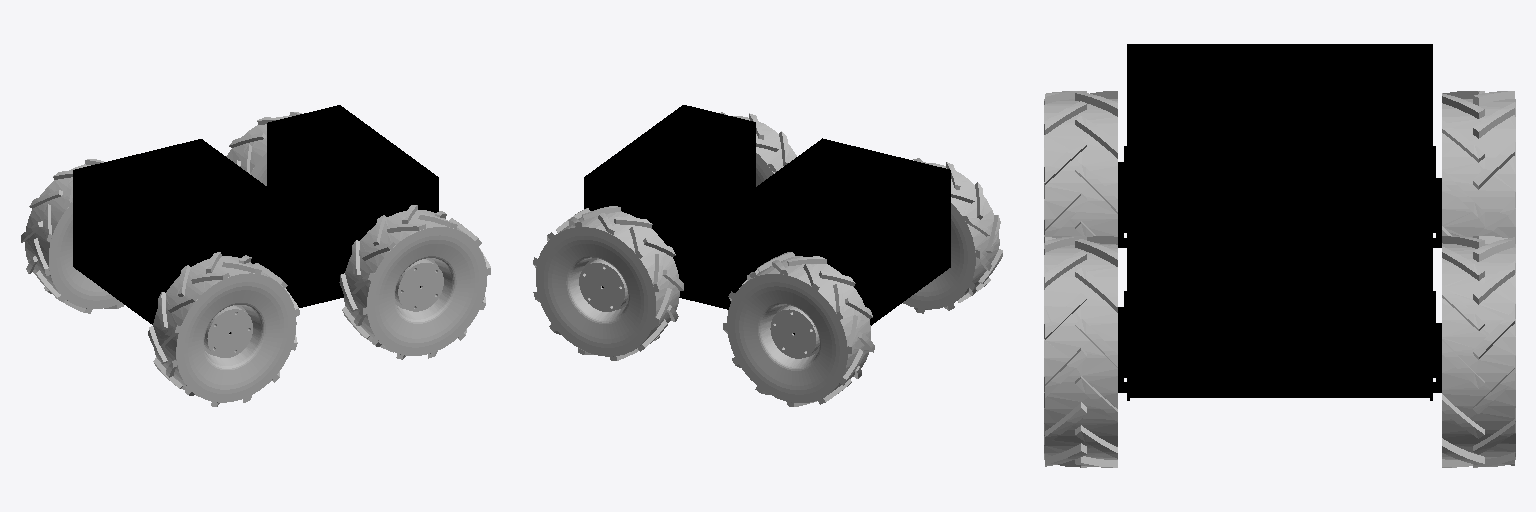
The robot description file, URDF, robot "ROVER_A1_URDF":
<?xml version="1.0" encoding="utf-8"?>
<!-- This URDF was automatically created by SolidWorks to URDF Exporter! Originally created by [author] ([email redacted]) 
     Commit Version: 1.6.0-4-g7f85cfe  Build Version: 1.6.7995.38578
     For more information, please see http://wiki.ros.org/sw_urdf_exporter -->
<robot
  name="ROVER_A1_URDF">
  <link
    name="base_link">
    <inertial>
      <origin
        xyz="-0.0331096533697888 7.09668643295025E-11 0.0694234106628136"
        rpy="0 0 0" />
      <mass
        value="34.5546054764677" />
      <inertia
        ixx="0.239631061537289"
        ixy="-0.000822634814054065"
        ixz="1.94613778104168E-05"
        iyy="0.23053157862469"
        iyz="-7.494352360915E-14"
        izz="0.370168476367055" />
    </inertial>
    <visual>
      <origin
        xyz="0 0 0"
        rpy="0 0 0" />
      <geometry>
        <mesh
          filename="package://ROVER_A1_URDF/meshes/base_link.STL" />
      </geometry>
      <material
        name="">
        <color
          rgba="0 0 0 1" />
      </material>
    </visual>
    <collision>
      <origin
        xyz="0 0 0"
        rpy="0 0 0" />
      <geometry>
        <mesh
          filename="package://ROVER_A1_URDF/meshes/base_link.STL" />
      </geometry>
    </collision>
  </link>
  <link
    name="link_back_left">
    <inertial>
      <origin
        xyz="-4.0546E-07 -0.023234 -5.0256E-06"
        rpy="0 0 0" />
      <mass
        value="7.0121" />
      <inertia
        ixx="0.038546"
        ixy="-1.2025E-09"
        ixz="3.0286E-08"
        iyy="0.070059"
        iyz="-2.0696E-10"
        izz="0.038546" />
    </inertial>
    <visual>
      <origin
        xyz="0 0 0"
        rpy="0 0 0" />
      <geometry>
        <mesh
          filename="package://ROVER_A1_URDF/meshes/link_back_left.STL" />
      </geometry>
      <material
        name="">
        <color
          rgba="0.75294 0.75294 0.75294 1" />
      </material>
    </visual>
    <collision>
      <origin
        xyz="0 0 0"
        rpy="0 0 0" />
      <geometry>
        <mesh
          filename="package://ROVER_A1_URDF/meshes/link_back_left.STL" />
      </geometry>
    </collision>
  </link>
  <joint
    name="joint_back_left"
    type="continuous">
    <origin
      xyz="-0.25123 0.31801 0.02474"
      rpy="0 0 0" />
    <parent
      link="base_link" />
    <child
      link="link_back_left" />
    <axis
      xyz="0 1 0" />
  </joint>
  <link
    name="link_back_right">
    <inertial>
      <origin
        xyz="-1.6507E-06 0.023234 -4.7641E-06"
        rpy="0 0 0" />
      <mass
        value="7.0121" />
      <inertia
        ixx="0.038546"
        ixy="-1.0203E-09"
        ixz="1.0032E-07"
        iyy="0.070059"
        iyz="6.7262E-10"
        izz="0.038546" />
    </inertial>
    <visual>
      <origin
        xyz="0 0 0"
        rpy="0 0 0" />
      <geometry>
        <mesh
          filename="package://ROVER_A1_URDF/meshes/link_back_right.STL" />
      </geometry>
      <material
        name="">
        <color
          rgba="0.75294 0.75294 0.75294 1" />
      </material>
    </visual>
    <collision>
      <origin
        xyz="0 0 0"
        rpy="0 0 0" />
      <geometry>
        <mesh
          filename="package://ROVER_A1_URDF/meshes/link_back_right.STL" />
      </geometry>
    </collision>
  </link>
  <joint
    name="joint_back_right"
    type="continuous">
    <origin
      xyz="-0.25123 -0.31801 0.02474"
      rpy="0 0 0" />
    <parent
      link="base_link" />
    <child
      link="link_back_right" />
    <axis
      xyz="0 1 0" />
  </joint>
  <link
    name="link_front_right">
    <inertial>
      <origin
        xyz="-4.0956E-06 0.023234 -2.9405E-06"
        rpy="0 0 0" />
      <mass
        value="7.0121" />
      <inertia
        ixx="0.038546"
        ixy="-4.383E-10"
        ixz="1.5915E-07"
        iyy="0.070059"
        iyz="1.1419E-09"
        izz="0.038546" />
    </inertial>
    <visual>
      <origin
        xyz="0 0 0"
        rpy="0 0 0" />
      <geometry>
        <mesh
          filename="package://ROVER_A1_URDF/meshes/link_front_right.STL" />
      </geometry>
      <material
        name="">
        <color
          rgba="0.75294 0.75294 0.75294 1" />
      </material>
    </visual>
    <collision>
      <origin
        xyz="0 0 0"
        rpy="0 0 0" />
      <geometry>
        <mesh
          filename="package://ROVER_A1_URDF/meshes/link_front_right.STL" />
      </geometry>
    </collision>
  </link>
  <joint
    name="joint_front_right"
    type="continuous">
    <origin
      xyz="0.25117 -0.31801 0.02474"
      rpy="0 0 0" />
    <parent
      link="base_link" />
    <child
      link="link_front_right" />
    <axis
      xyz="0 1 0" />
  </joint>
  <link
    name="link_front_left">
    <inertial>
      <origin
        xyz="-3.3863E-06 -0.023234 3.7355E-06"
        rpy="0 0 0" />
      <mass
        value="7.0121" />
      <inertia
        ixx="0.038546"
        ixy="6.7515E-10"
        ixz="-1.6558E-07"
        iyy="0.070059"
        iyz="1.021E-09"
        izz="0.038546" />
    </inertial>
    <visual>
      <origin
        xyz="0 0 0"
        rpy="0 0 0" />
      <geometry>
        <mesh
          filename="package://ROVER_A1_URDF/meshes/link_front_left.STL" />
      </geometry>
      <material
        name="">
        <color
          rgba="0.75294 0.75294 0.75294 1" />
      </material>
    </visual>
    <collision>
      <origin
        xyz="0 0 0"
        rpy="0 0 0" />
      <geometry>
        <mesh
          filename="package://ROVER_A1_URDF/meshes/link_front_left.STL" />
      </geometry>
    </collision>
  </link>
  <joint
    name="joint_front_left"
    type="continuous">
    <origin
      xyz="0.25117 0.31801 0.02474"
      rpy="0 0 0" />
    <parent
      link="base_link" />
    <child
      link="link_front_left" />
    <axis
      xyz="0 1 0" />
  </joint>
</robot>

--- Facts derived from the render (not from the file) ---
The picture shows the robot from 3 angles, left to right: view 1: azimuth 30°, elevation 25°; view 2: azimuth 150°, elevation 25°; view 3: azimuth 270°, elevation 25°; orthographic projection.
Robot: ROVER_A1_URDF — 5 links, 4 joints (4 continuous); root link base_link; default pose: every joint at zero.
Links seen in each view (by area): view 1: base_link, link_back_right, link_front_right, link_back_left, link_front_left; view 2: base_link, link_front_left, link_back_left, link_back_right, link_front_right; view 3: base_link, link_front_right, link_front_left, link_back_left, link_back_right.
Link boxes in pixels (x1,y1,x2,y2): base_link: (73,105,438,333); link_back_right: (148,252,299,406); link_front_right: (339,205,490,359); link_back_left: (21,159,123,313); link_front_left: (226,112,301,185); base_link: (584,105,950,334); link_front_left: (533,206,683,360); link_back_left: (723,252,874,406); link_back_right: (903,158,1002,313); link_front_right: (720,112,796,186); base_link: (1118,44,1441,400); link_front_right: (1044,236,1117,467); link_front_left: (1442,236,1515,467); link_back_left: (1442,91,1515,243); link_back_right: (1044,91,1117,242).
Size in the robot's own frame: 0.8421 by 0.6905 by 0.3861 metres.
Meshes: 5 distinct files referenced, 5 mesh visuals loaded (5 binary STL).